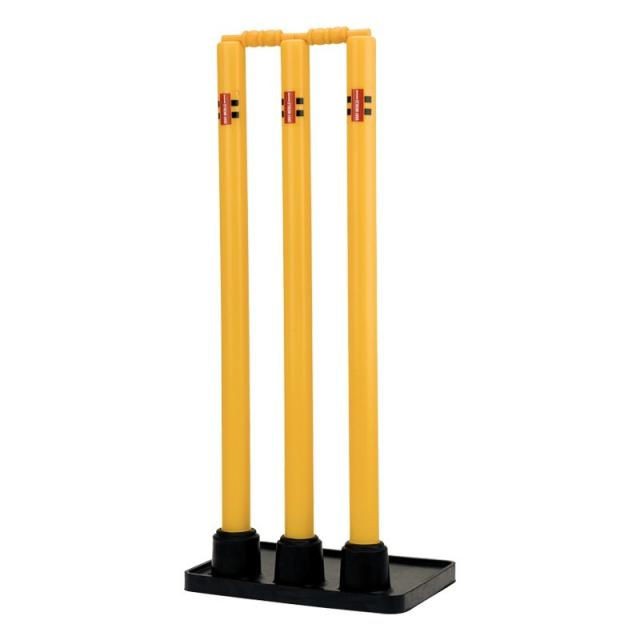stump: (214, 24, 388, 592)
